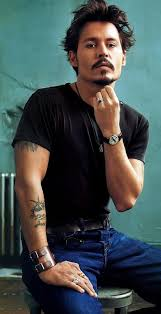b.y: (88, 60, 114, 81)
